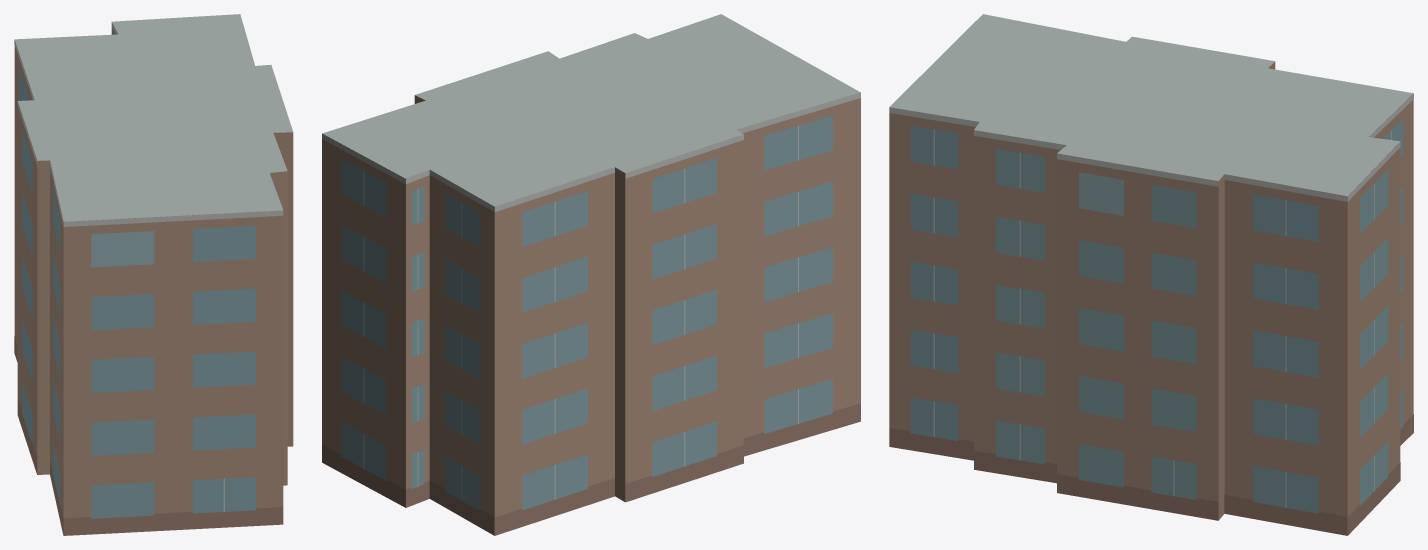
The model's file is survey-upis-32716045.glb.
3 renders of one model, left to right at view 1: azimuth 30°, elevation 25°; view 2: azimuth 150°, elevation 25°; view 3: azimuth 270°, elevation 25°, orthographic. The views are drawn at different scales.
Parts seen in each view (by area): view 1: survey-upis-32716045.tmp; view 2: survey-upis-32716045.tmp; view 3: survey-upis-32716045.tmp.
Boxes of the visible parts, x1,y1,x2,y2 form: survey-upis-32716045.tmp: (14, 14, 293, 535); survey-upis-32716045.tmp: (322, 14, 860, 535); survey-upis-32716045.tmp: (889, 14, 1413, 535).
Bounding box in the file's own units: 16.7 × 14.5 × 20.31.
